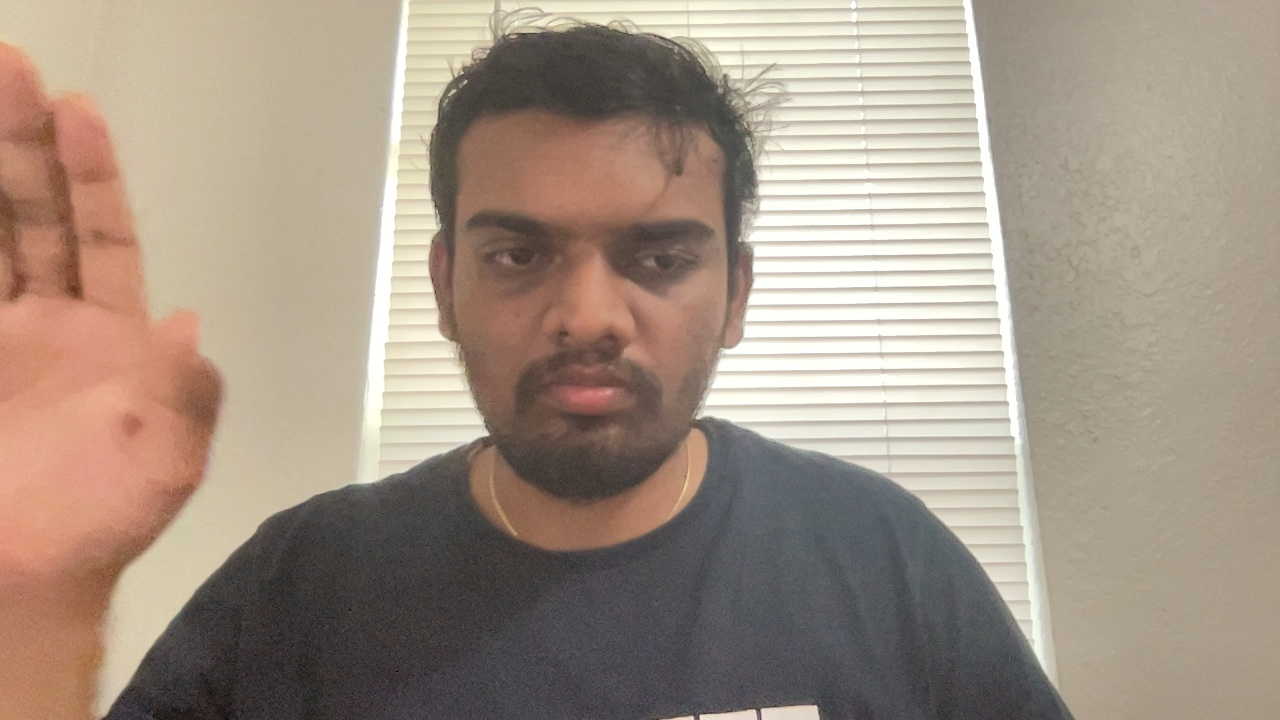hello: (1, 36, 233, 571)
